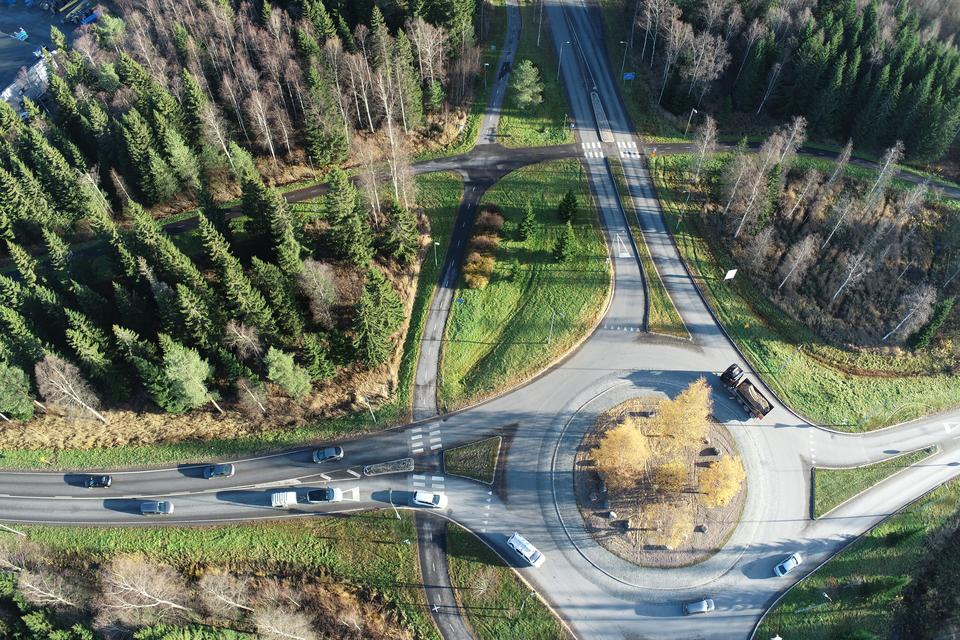intersection: (399, 401, 459, 536), (559, 121, 675, 171)
roundabout: (474, 249, 923, 640)
